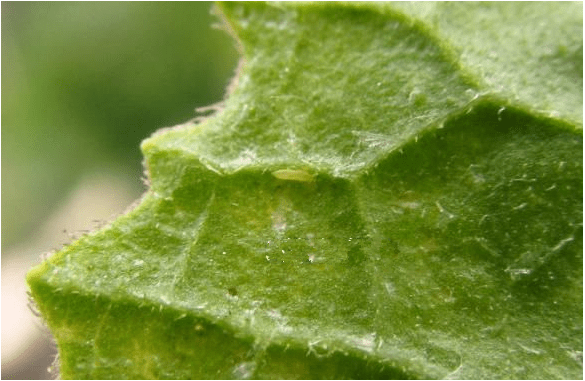thrips: (272, 166, 318, 183)
